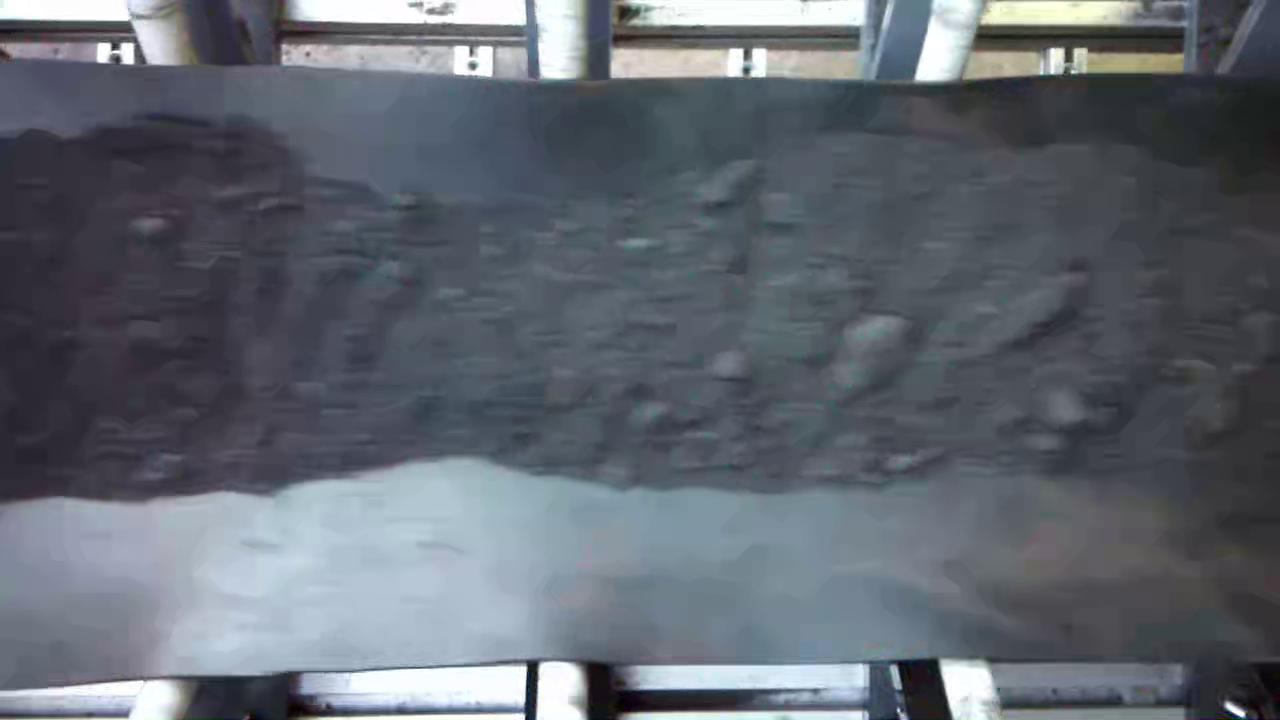conveyor: (8, 90, 1276, 657)
